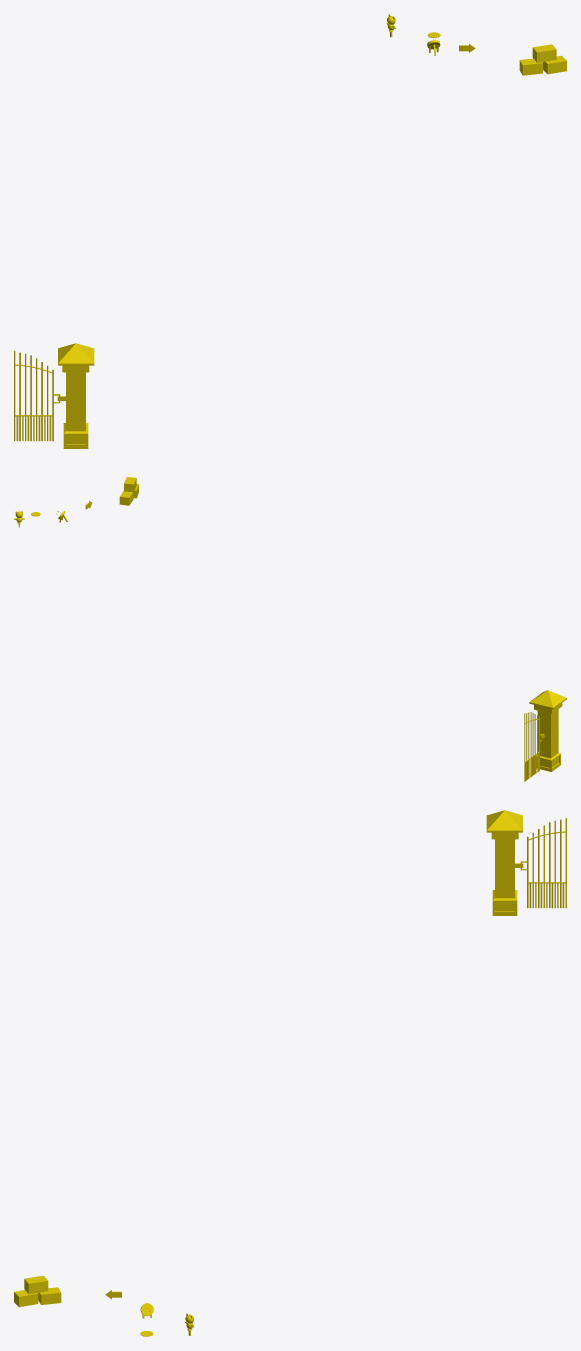
File: objetos nuevos.fbx
The picture shows the model from 3 angles, top to bottom: view 1: azimuth 90°, elevation 25°; view 2: azimuth 150°, elevation 25°; view 3: azimuth 270°, elevation 25°; orthographic projection. The views are drawn at different scales.
Parts seen in each view (by area): view 1: columna, rejas, Heno; view 2: columna, rejas, Heno; view 3: columna, rejas, Heno.
Boxes of the visible parts, <box> form: columna: <box>58,343,94,448</box>; rejas: <box>14,351,53,441</box>; Heno: <box>519,44,566,75</box>; columna: <box>529,690,566,771</box>; rejas: <box>524,712,539,781</box>; Heno: <box>119,477,138,505</box>; columna: <box>486,810,522,915</box>; rejas: <box>527,818,566,908</box>; Heno: <box>14,1275,61,1307</box>.
Bounding box in the file's own units: 66.8 × 8.03 × 36.63.
